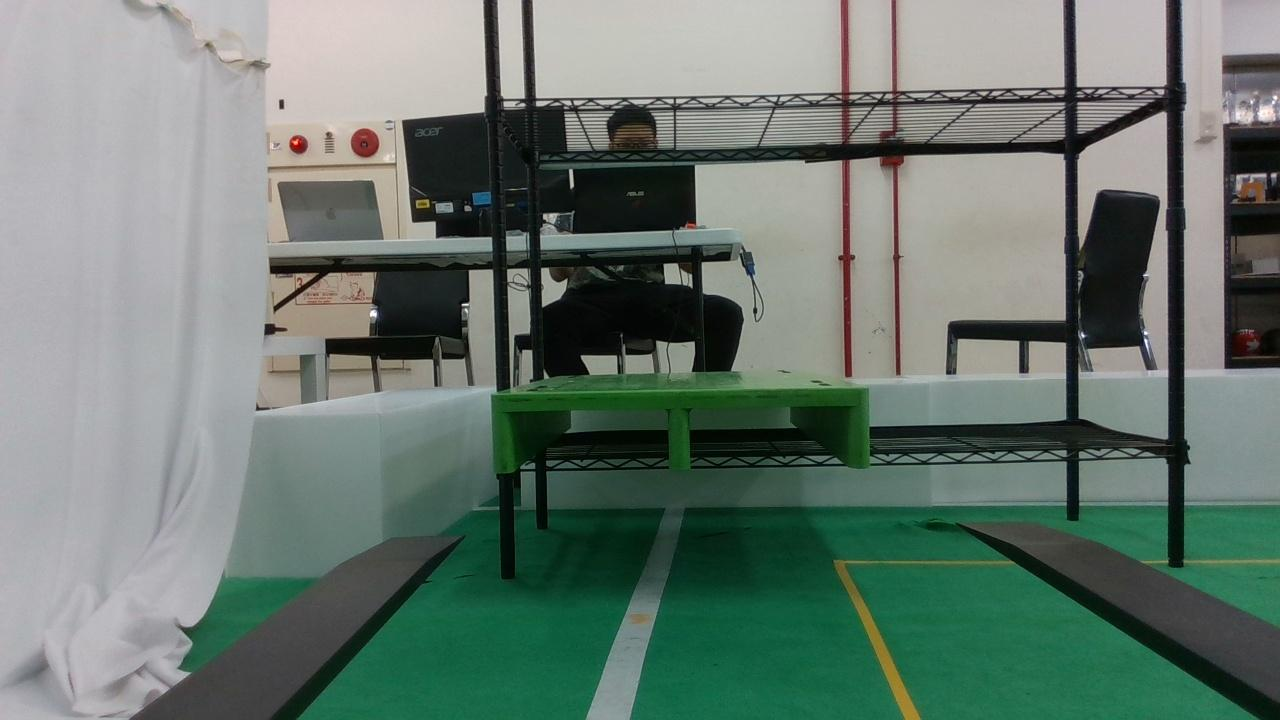Pallet: (490, 387, 872, 474)
